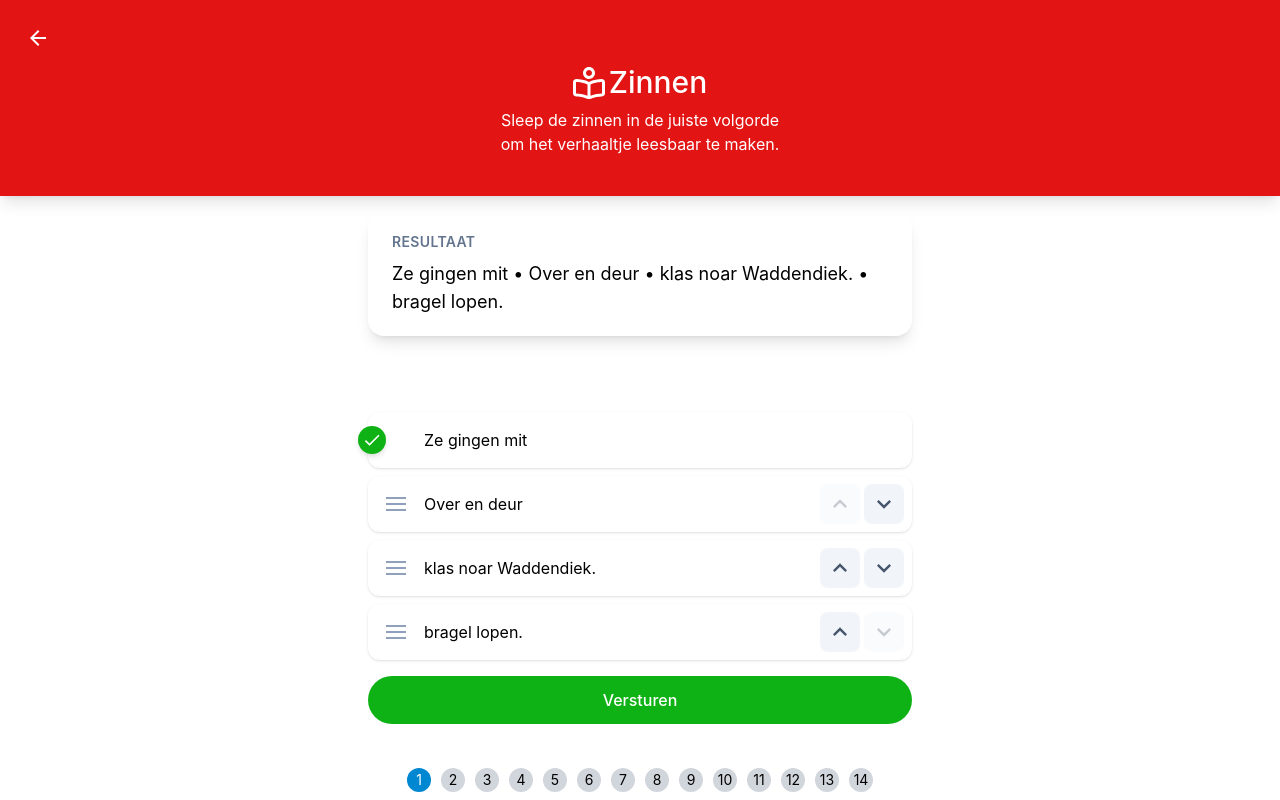
Scenario: a wrong submit › clears the message and the markers once the pupil reorders
Click the button "Versturen". click: [640, 700]
box: [368,676,912,724]
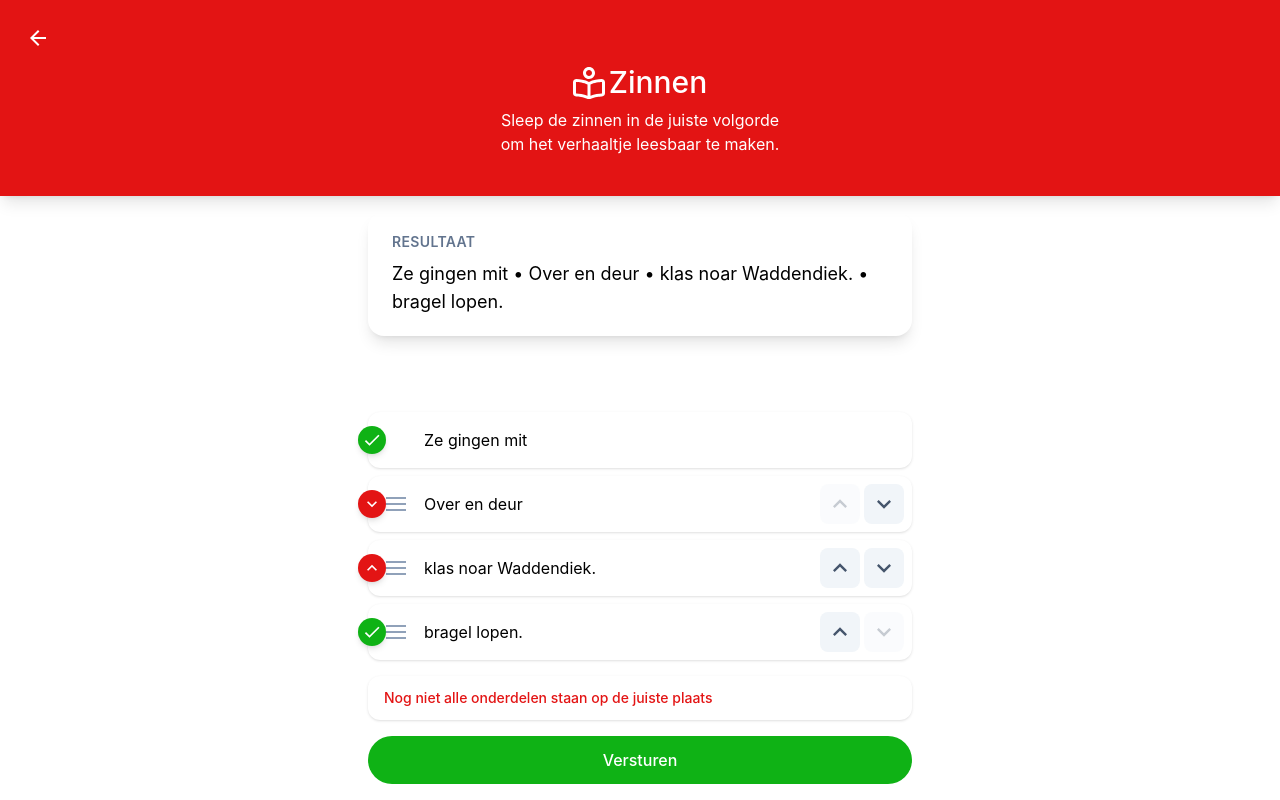
expect the text "Nog niet alle onderdelen staan op de juiste plaats" is shown: met, box [368,676,912,720]
Click the 1st button named "Naar beneden". click: [884, 504]
box: [864,484,904,524]
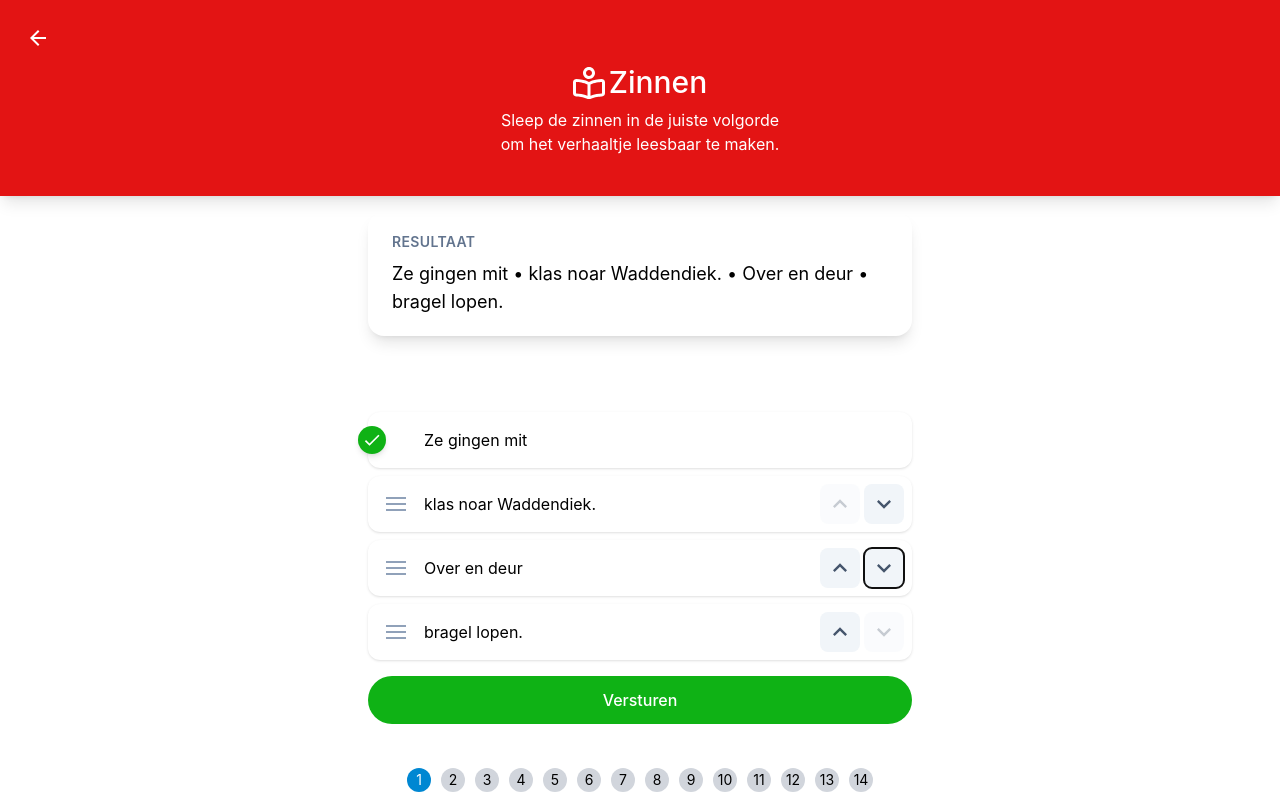
expect the text "Nog niet alle onderdelen staan op de juiste plaats" is gone: met
